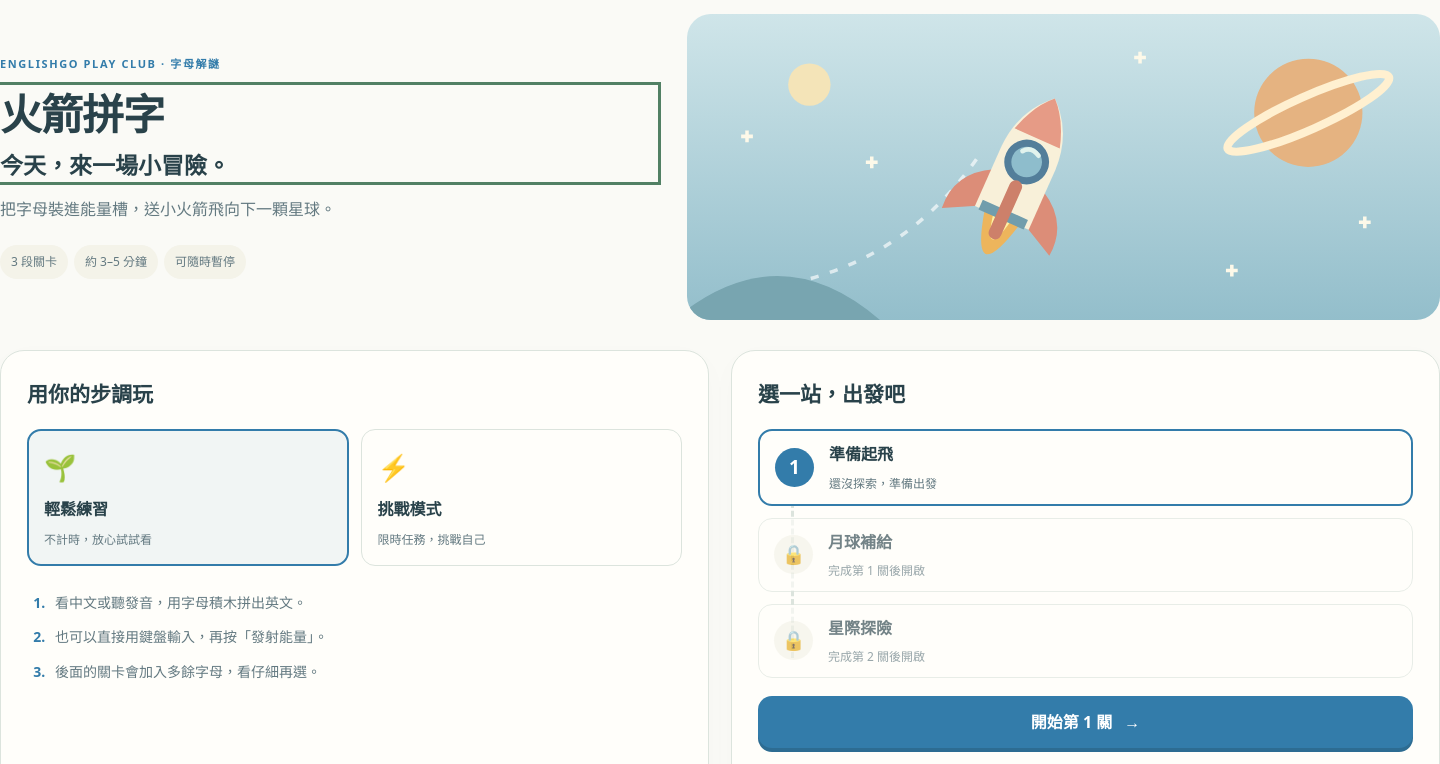
Test case: illustrated arcade play flow › waits for a deliberate start and keeps advanced stages locked
(page scrolled)
Expected: the button "🔒 月球補給 完成第 1 關後開啟" is disabled, [758,518,1413,592]
Click the button "開始第 1 關 →" at {"x": 1086, "y": 722}, box [758,696,1413,748]
(page scrolled)
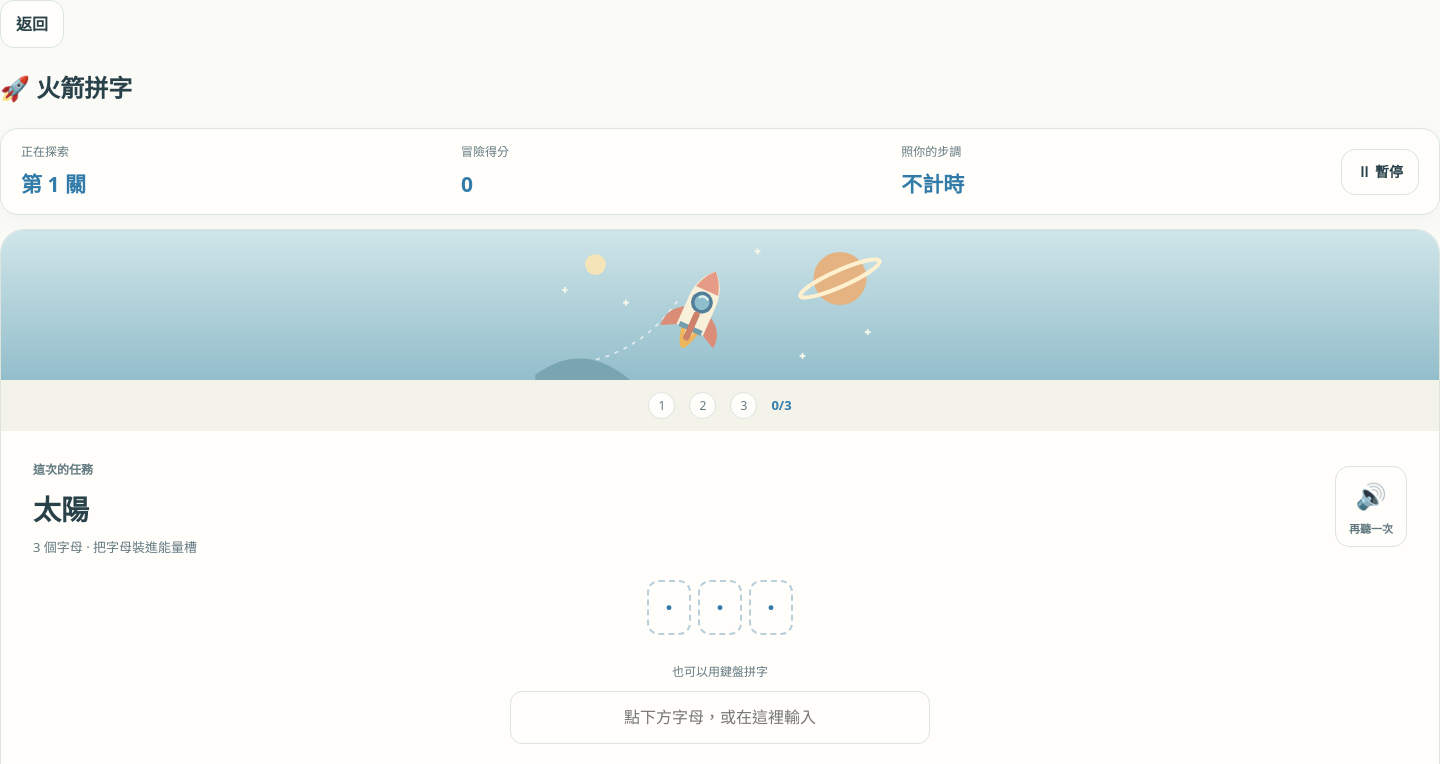
Expected: the text with test id "arcade-clock" reads "不計時", [901,170,964,198]
Expected: the field named "拼出英文單字" is shown, [510,691,930,744]
